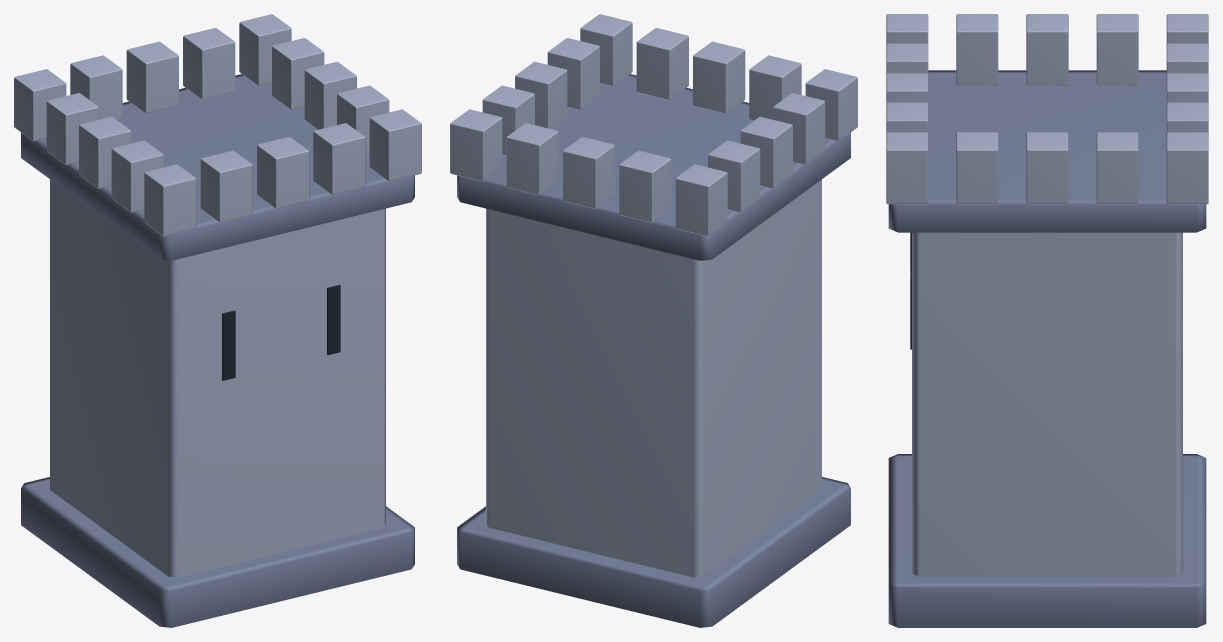
File: castle_tower.glb
The picture shows the model from 3 angles, left to right: view 1: azimuth 30°, elevation 25°; view 2: azimuth 150°, elevation 25°; view 3: azimuth 270°, elevation 25°; orthographic projection. The views are drawn at different scales.
Parts seen in each view (by area): view 1: Tower masonry, Tower crown, Tower base, Merlon.012, Merlon.017, Merlon.022, Merlon.024, Merlon.023, Merlon.026, Merlon.027, Merlon.013, Merlon.016 (+9 smaller); view 2: Tower masonry, Tower crown, Tower base, Merlon.016, Merlon.021, Merlon.025, Merlon.027, Merlon.023, Merlon.026, Merlon.024, Merlon.015, Merlon.012 (+7 smaller); view 3: Tower masonry, Tower crown, Tower base, Merlon.018, Merlon.020, Merlon.019, Merlon.017, Merlon.021, Merlon.013, Merlon.014, Merlon.015, Merlon.022 (+7 smaller).
Part boxes in pixels (<box>): Tower masonry: <box>50,179,385,577</box>; Tower crown: <box>21,74,414,260</box>; Tower base: <box>21,477,414,627</box>; Merlon.012: <box>144,164,196,236</box>; Merlon.017: <box>369,109,421,181</box>; Merlon.022: <box>200,150,252,222</box>; Merlon.024: <box>313,123,365,195</box>; Merlon.023: <box>257,136,309,208</box>; Merlon.026: <box>126,41,178,113</box>; Merlon.027: <box>183,28,235,100</box>; Merlon.013: <box>111,140,163,212</box>; Merlon.016: <box>14,69,66,141</box>; Tower masonry: <box>486,179,821,577</box>; Tower crown: <box>457,74,850,260</box>; Tower base: <box>457,477,850,627</box>; Merlon.016: <box>675,164,727,236</box>; Merlon.021: <box>450,109,502,181</box>; Merlon.025: <box>619,150,671,222</box>; Merlon.027: <box>506,123,558,195</box>; Merlon.023: <box>693,41,745,113</box>; Merlon.026: <box>562,136,614,208</box>; Merlon.024: <box>636,28,688,100</box>; Merlon.015: <box>708,140,760,212</box>; Merlon.012: <box>805,69,857,141</box>; Tower masonry: <box>912,232,1182,576</box>; Tower crown: <box>888,70,1206,232</box>; Tower base: <box>888,454,1206,627</box>; Merlon.018: <box>956,132,998,204</box>; Merlon.020: <box>1096,132,1138,204</box>; Merlon.019: <box>1026,132,1068,204</box>; Merlon.017: <box>886,132,928,204</box>; Merlon.021: <box>1166,132,1208,204</box>; Merlon.013: <box>956,14,998,85</box>; Merlon.014: <box>1026,14,1068,85</box>; Merlon.015: <box>1096,14,1138,85</box>; Merlon.022: <box>886,43,928,73</box>.
Size of the model in its own units: 3.45 by 5.67 by 3.45.
